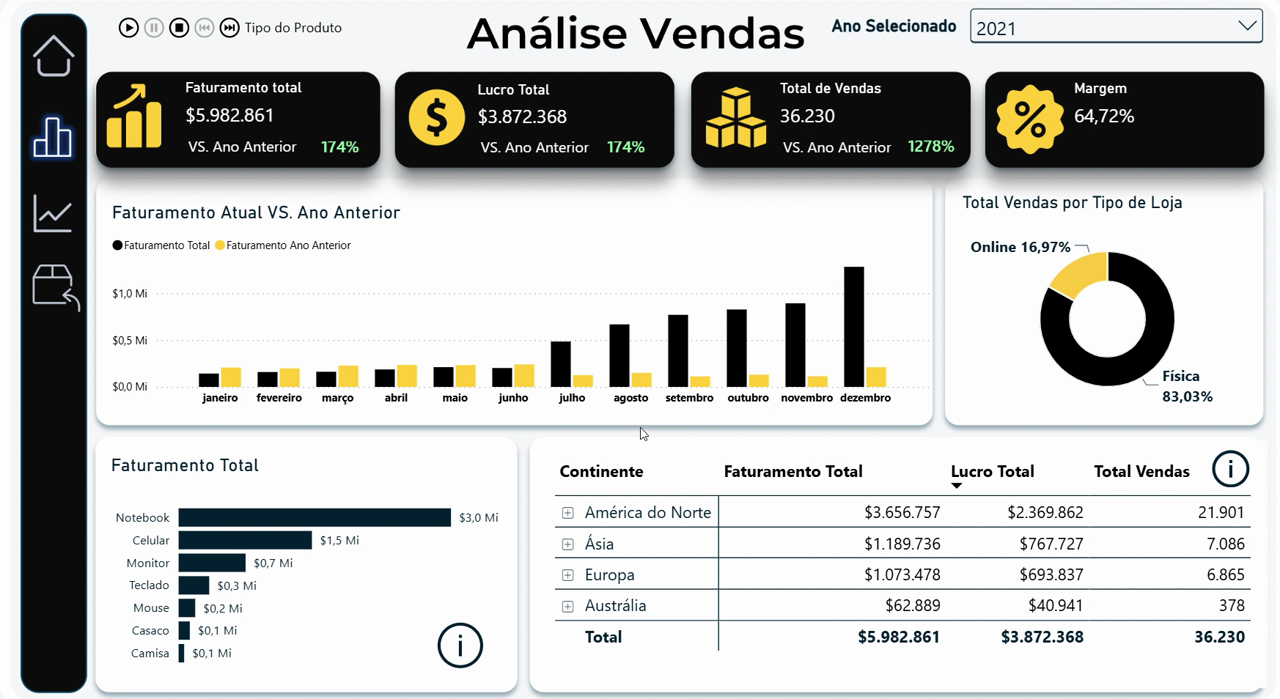

The page's visual inventory and layout, read from the dashboard file:
{"tool":"powerbi","page":{"name":"Geral","canvas":[1280,720],"ordinal":1},"visuals":[{"type":"multiRowCard","title":"Faturamento total","fields":{"Values":["Medidas.Faturamento Total"]},"box":[170,74.3,180,82.9],"z":0},{"type":"multiRowCard","title":"Lucro Total","fields":{"Values":["Medidas.Lucro Total"]},"box":[460,76.7,180,81.4],"z":1000},{"type":"multiRowCard","title":"Total de Vendas","fields":{"Values":["Medidas.Total Vendas"]},"box":[760,75.6,180,91.4],"z":2000},{"type":"multiRowCard","title":"Margem","fields":{"Values":["Medidas.% Margem de Lucro"]},"box":[1052.2,75.6,180,91.4],"z":3000},{"type":"slicer","fields":{"Values":["dCalendario.Ano"]},"box":[960,14.3,300,60],"z":4000},{"type":"textbox","box":[827.5,26.2,132.5,37.5],"z":5000},{"type":"textbox","box":[188.9,145.6,161.4,41.4],"z":6000},{"type":"textbox","box":[479,146,161.4,41.4],"z":7000},{"type":"textbox","box":[779,146,161.4,41.4],"z":8000},{"type":"card","fields":{"Values":["Medidas.% Crescimento Faturamento YoY"]},"box":[290,133.8,99.5,44.3],"z":9000},{"type":"card","fields":{"Values":["Medidas.% Crecimento Lucro YoY"]},"box":[573.8,133.8,99.5,44.3],"z":10000},{"type":"card","fields":{"Values":["Medidas.% Crescimento Vendas YoY"]},"box":[876.4,132.7,99.5,44.3],"z":11000},{"type":"clusteredColumnChart","title":"Faturamento Atual VS. Ano Anterior","fields":{"Category":["dCalendario.Mês"],"Y":["Medidas.Faturamento Total","Medidas.Faturamento Ano Anterior"]},"box":[96.9,196.3,842.1,237.7],"z":12000},{"type":"donutChart","title":"Total Vendas por Tipo de Loja","fields":{"Category":["dLojas.Tipo"],"Y":["Medidas.Total Vendas"]},"box":[941,187,319.7,246.1],"z":13000},{"type":"barChart","title":"Faturamento Total","fields":{"Category":["dProdutos.Tipo do Produto"],"Y":["Medidas.Faturamento Total"]},"box":[96.5,447.6,416.2,246.1],"z":14000},{"type":"pivotTable","fields":{"Rows":["dLojas.Continente","dLojas.País"],"Values":["Medidas.Faturamento Total","Medidas.Lucro Total","Medidas.Total Vendas"]},"box":[536,448.2,723.3,245.4],"z":15000},{"type":"PBI_CV_16948668_E17D_454B_8664_2F2C470EA8C1","fields":{"category":["dProdutos.Tipo do Produto"]},"box":[103.9,13.8,286.5,50],"z":16000},{"type":"actionButton","title":"Botão informativo","box":[429.5,621.3,60.3,61.5],"z":17000},{"type":"actionButton","box":[19.3,26.5,67.6,67.6],"z":18000},{"type":"actionButton","box":[19.3,196.6,67.6,43.4],"z":19000},{"type":"actionButton","box":[19.3,264.2,67.6,50.7],"z":20000},{"type":"actionButton","title":"Botão informativo continente","box":[1199.2,447.6,48.3,47.1],"z":20500},{"type":"group","id":"g1","title":"Informativo continente","box":[0,0,1280,720.2],"z":25001}]}

Visuals, with their boxes on the page's 1280x720 design canvas (x1, y1, x2, y2). These are canvas units, not pixel positions in the 1280x699 screenshot, which may show the page scaled, cropped or inside an application window:
"Faturamento total" multiRowCard: select_region(170, 74, 350, 157)
"Lucro Total" multiRowCard: select_region(460, 77, 640, 158)
"Total de Vendas" multiRowCard: select_region(760, 76, 940, 167)
"Margem" multiRowCard: select_region(1052, 76, 1232, 167)
slicer - dCalendario.Ano: select_region(960, 14, 1260, 74)
textbox: select_region(828, 26, 960, 64)
textbox: select_region(189, 146, 350, 187)
textbox: select_region(479, 146, 640, 187)
textbox: select_region(779, 146, 940, 187)
card - Medidas.% Crescimento Faturamento YoY: select_region(290, 134, 390, 178)
card - Medidas.% Crecimento Lucro YoY: select_region(574, 134, 673, 178)
card - Medidas.% Crescimento Vendas YoY: select_region(876, 133, 976, 177)
"Faturamento Atual VS. Ano Anterior" clusteredColumnChart: select_region(97, 196, 939, 434)
"Total Vendas por Tipo de Loja" donutChart: select_region(941, 187, 1261, 433)
"Faturamento Total" barChart: select_region(96, 448, 513, 694)
pivotTable - dLojas.Continente x dLojas.País: select_region(536, 448, 1259, 694)
PBI_CV_16948668_E17D_454B_8664_2F2C470EA8C1 - dProdutos.Tipo do Produto: select_region(104, 14, 390, 64)
"Botão informativo" actionButton: select_region(430, 621, 490, 683)
actionButton: select_region(19, 26, 87, 94)
actionButton: select_region(19, 197, 87, 240)
actionButton: select_region(19, 264, 87, 315)
"Botão informativo continente" actionButton: select_region(1199, 448, 1248, 495)
"Informativo continente" group: select_region(0, 0, 1280, 720)
